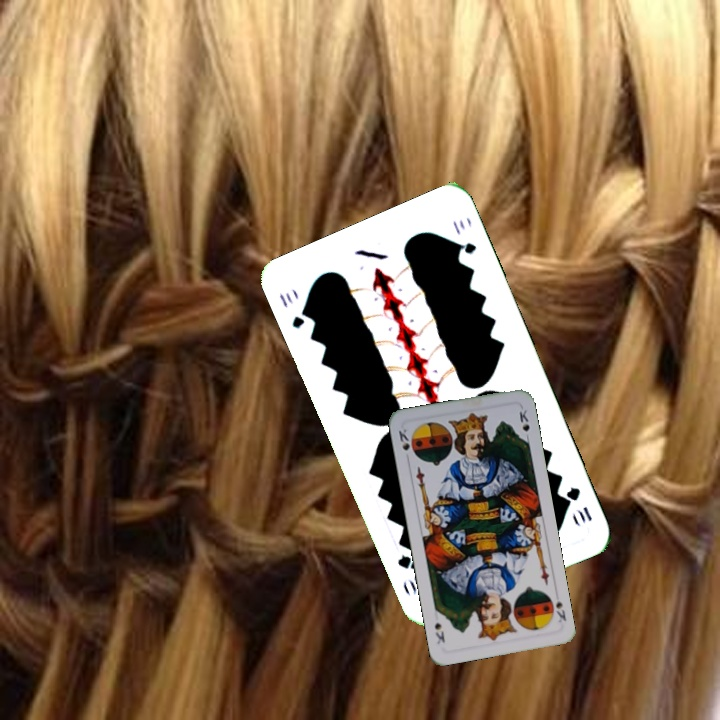G10: (275, 288, 312, 331), (562, 483, 595, 524)
SK: (394, 425, 412, 453), (552, 597, 569, 625)
